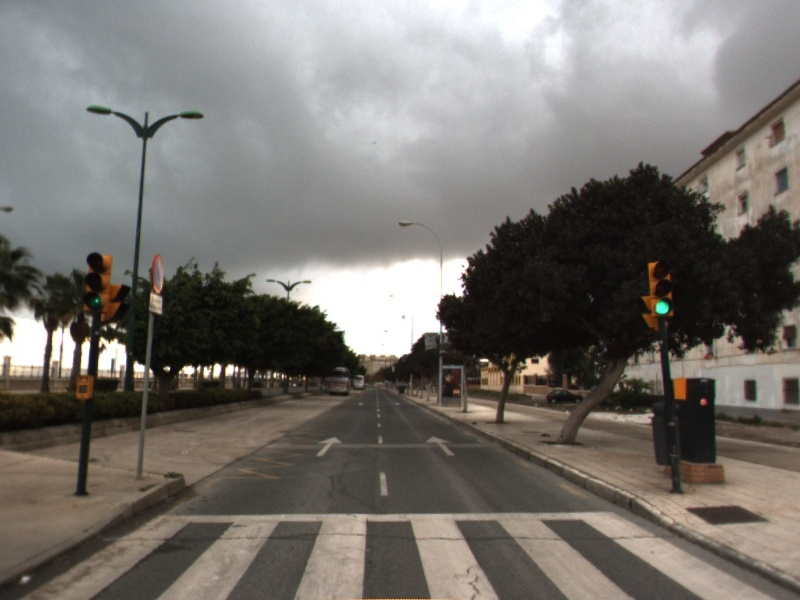STRAIGHT: (424, 434, 458, 457), (314, 434, 345, 458)
